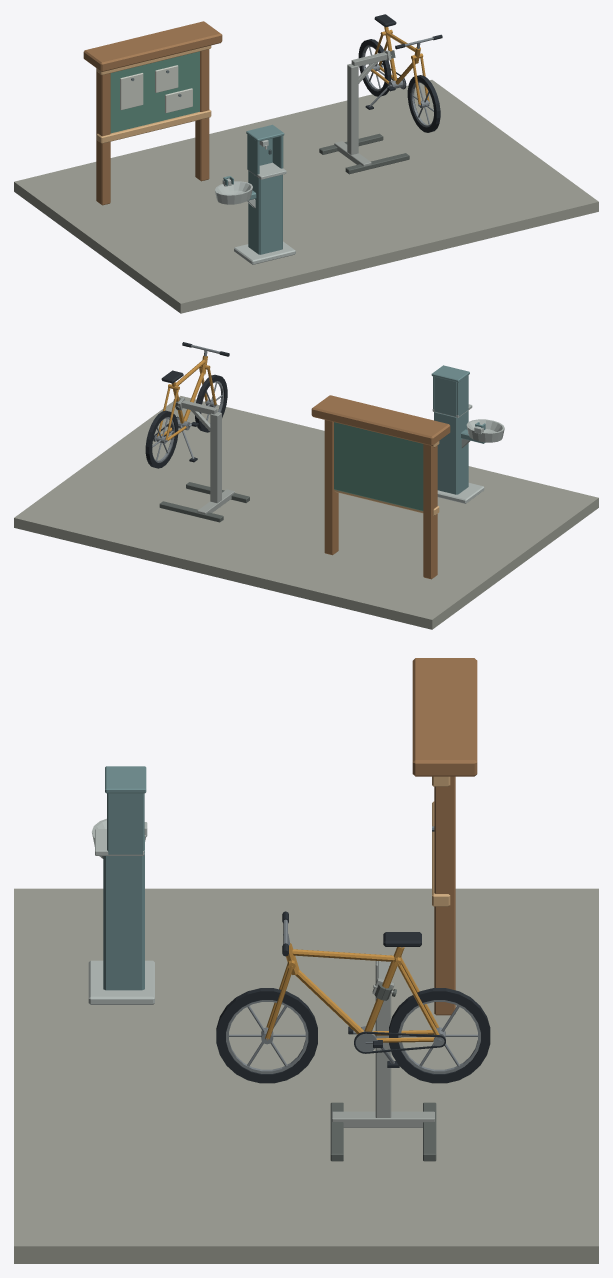
3 renders of one model, top to bottom at view 1: azimuth 30°, elevation 25°; view 2: azimuth 150°, elevation 25°; view 3: azimuth 270°, elevation 25°, orthographic. The views are drawn at different scales.
Visible parts, largest first — view 1: SceneOnly_ContinuousFloor, board__village-noticeboard-01, water__Lower pedestal, stand__Fixed upright column, bike__Front flat tread tire, water__Continuous open basin with drain recess, water__Ground plinth, bike__Rear flat tread tire, stand__Long stabilizing foot -0.30, water__Refill recess sidewall, water__Refill top hood; view 2: SceneOnly_ContinuousFloor, board__village-noticeboard-01, water__Lower pedestal, stand__Fixed upright column, water__Refill recessed back, bike__Rear flat tread tire, water__Continuous open basin with drain recess, bike__Front flat tread tire, water__Ground plinth, stand__Long stabilizing foot 0.30, water__Refill recess sidewall, water__Refill top hood; view 3: SceneOnly_ContinuousFloor, board__village-noticeboard-01, water__Lower pedestal, bike__Front flat tread tire, bike__Rear flat tread tire, water__Refill recess sidewall.001, water__Ground plinth, stand__Fixed upright column, stand__Low transverse base, water__Refill top hood, bike__Front restrained rim, bike__Rear restrained rim.
Part boxes in pixels (x1,y1,x2,y2): SceneOnly_ContinuousFloor: (14,80,598,313); board__village-noticeboard-01: (83,21,222,205); water__Lower pedestal: (248,170,282,254); stand__Fixed upright column: (347,63,358,154); bike__Front flat tread tire: (407,75,440,132); water__Continuous open basin with drain recess: (215,181,252,204); water__Ground plinth: (234,241,295,264); bike__Rear flat tread tire: (358,39,391,96); stand__Long stabilizing foot -0.30: (345,153,409,174); water__Refill recess sidewall: (247,134,259,175); water__Refill top hood: (246,124,284,141); SceneOnly_ContinuousFloor: (14,396,598,629); board__village-noticeboard-01: (311,395,450,579); water__Lower pedestal: (434,410,468,494); stand__Fixed upright column: (210,412,221,503); water__Refill recessed back: (434,377,456,416); bike__Rear flat tread tire: (145,410,178,468); water__Continuous open basin with drain recess: (466,419,504,442); bike__Front flat tread tire: (195,374,227,432); water__Ground plinth: (437,483,484,503); stand__Long stabilizing foot 0.30: (159,501,223,522); water__Refill recess sidewall: (456,375,468,416); water__Refill top hood: (431,365,469,382); SceneOnly_ContinuousFloor: (14,888,598,1263); board__village-noticeboard-01: (412,658,477,1015); water__Lower pedestal: (103,836,144,990); bike__Front flat tread tire: (216,988,317,1083); bike__Rear flat tread tire: (389,988,490,1083); water__Refill recess sidewall.001: (107,793,143,854); water__Ground plinth: (88,960,154,1004); stand__Fixed upright column: (375,961,391,1117); stand__Low transverse base: (332,1111,434,1127); water__Refill top hood: (105,766,146,793); bike__Front restrained rim: (226,1000,308,1073); bike__Rear restrained rim: (398,1000,480,1073).
Size of the model in its own units: 5.5 by 1.99 by 3.8.
